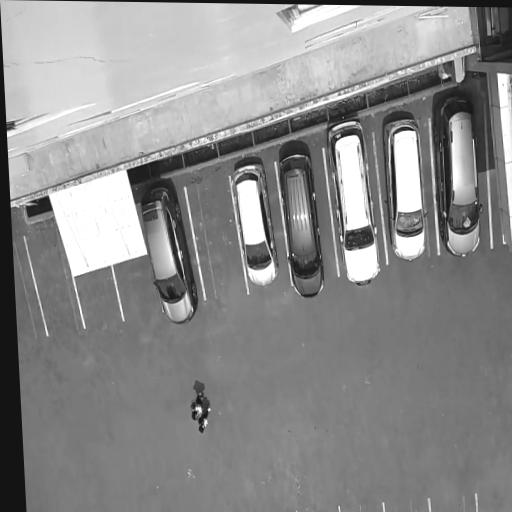Car: (320, 112, 383, 296), (133, 175, 204, 332), (429, 88, 485, 257), (275, 143, 328, 301), (381, 105, 429, 264), (229, 158, 281, 291)
Space Available: (187, 179, 248, 299), (25, 229, 84, 336), (12, 238, 45, 341), (112, 255, 162, 320), (74, 266, 124, 328), (429, 494, 477, 512), (477, 489, 512, 512), (385, 496, 430, 512), (341, 502, 384, 512)
